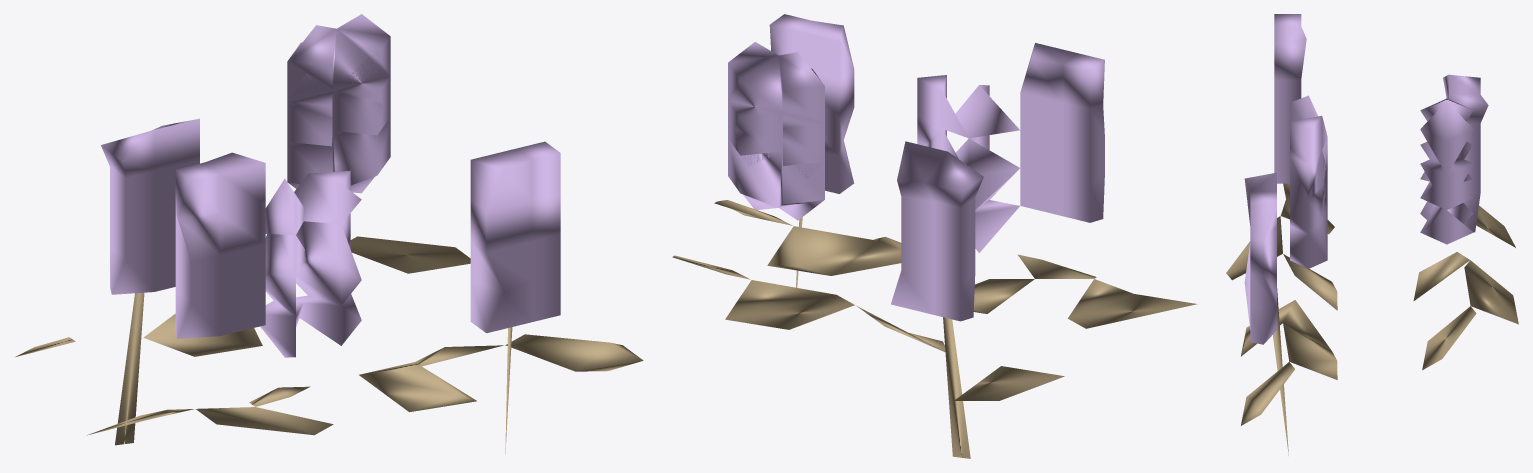
The model's file is flower_3_autumn_low.glb.
3 renders of one model, left to right at view 1: azimuth 30°, elevation 25°; view 2: azimuth 150°, elevation 25°; view 3: azimuth 270°, elevation 25°, orthographic. The views are drawn at different scales.
Size of the model in its own units: 0.6121 by 0.426 by 0.3392.
